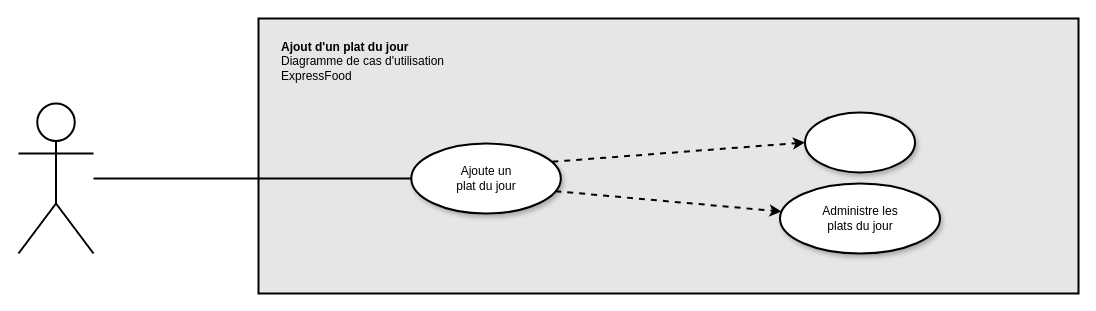
This 1096x311 diagram has some shape labels left out. Each missing label, with the centre of its shape:
Cuisine un plat: the point at 861,143
Cuisinier: the point at 55,178
